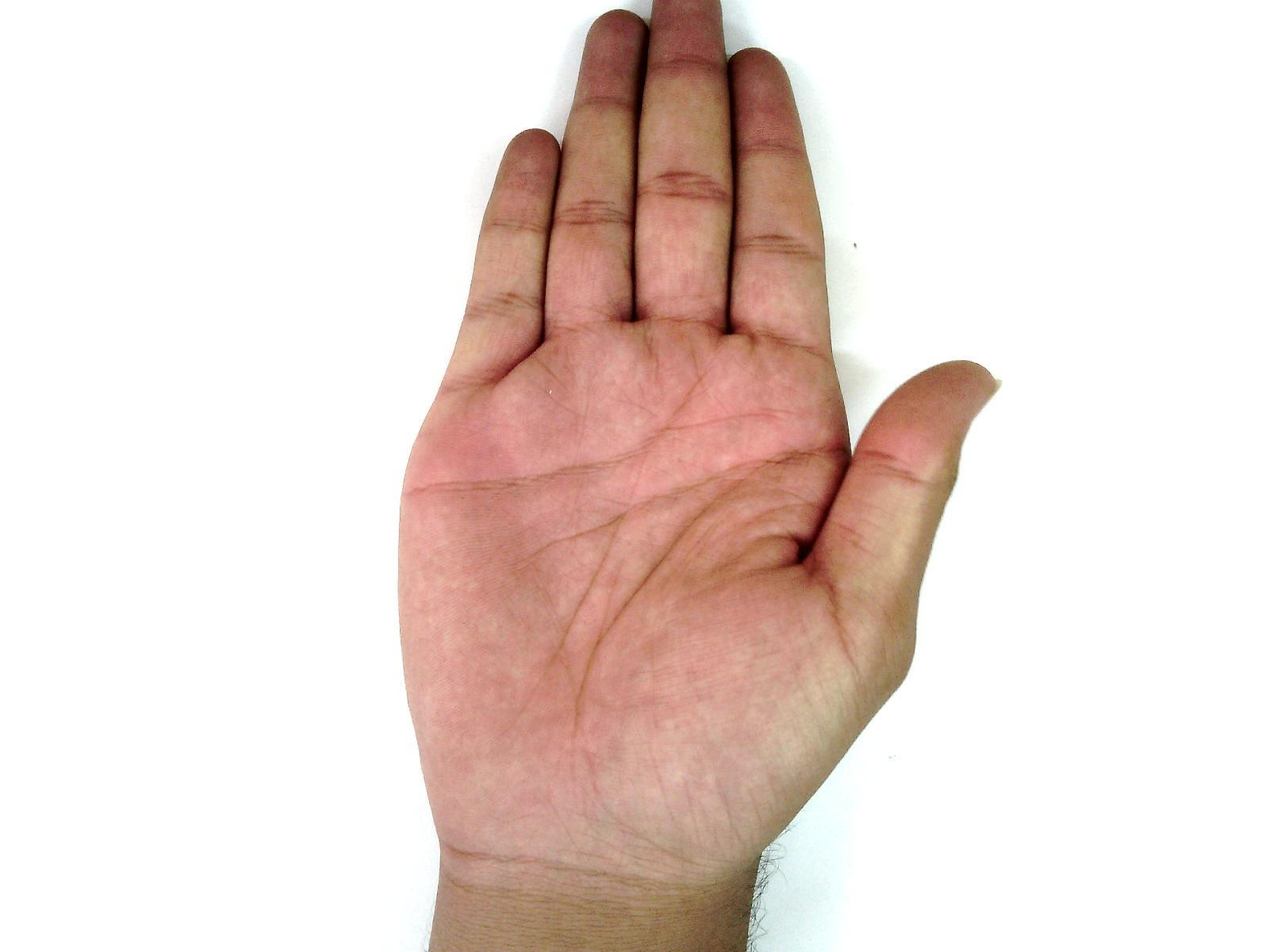open_palm: (393, 4, 1003, 887)
